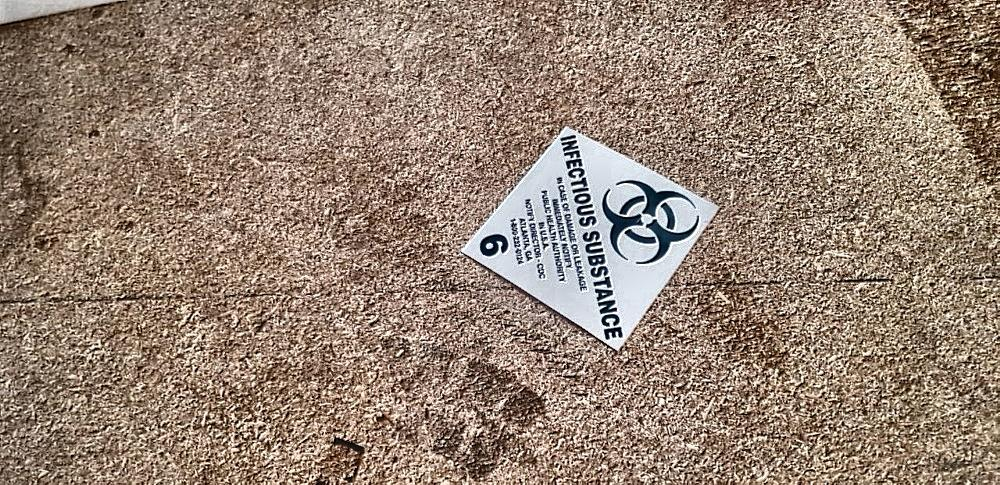infectious-substance: (461, 124, 722, 354)
